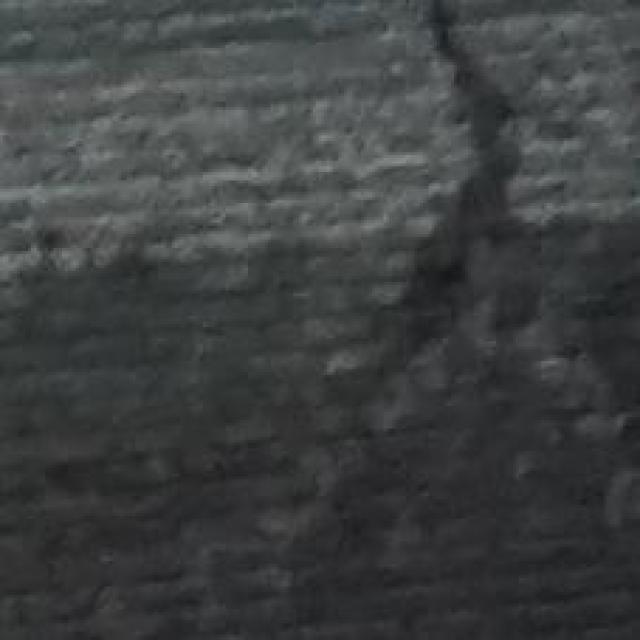Crack: (303, 3, 616, 413)
